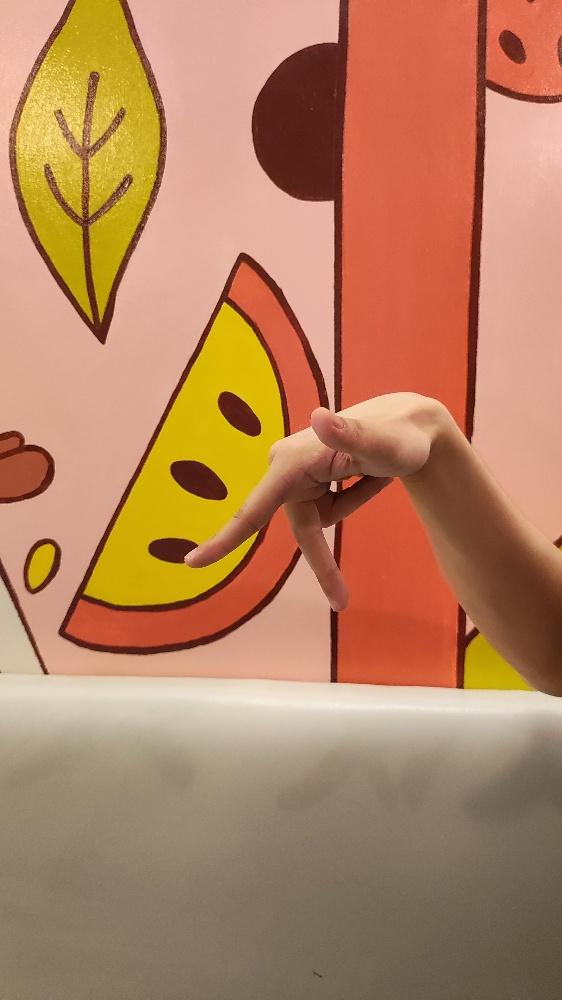p: (182, 388, 436, 612)
